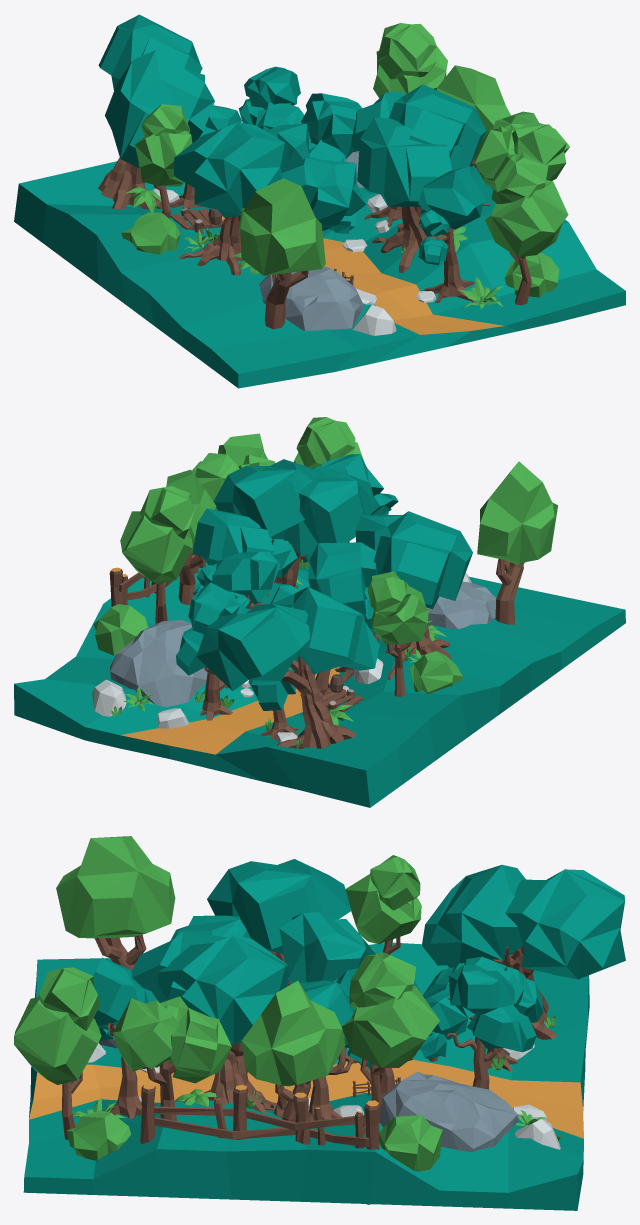
The model's file is Forest_scene_optimized.glb.
3 renders of one model, top to bottom at view 1: azimuth 30°, elevation 25°; view 2: azimuth 150°, elevation 25°; view 3: azimuth 270°, elevation 25°, orthographic. The views are drawn at different scales.
Size of the model in its own units: 1.43 by 0.6957 by 1.7.
